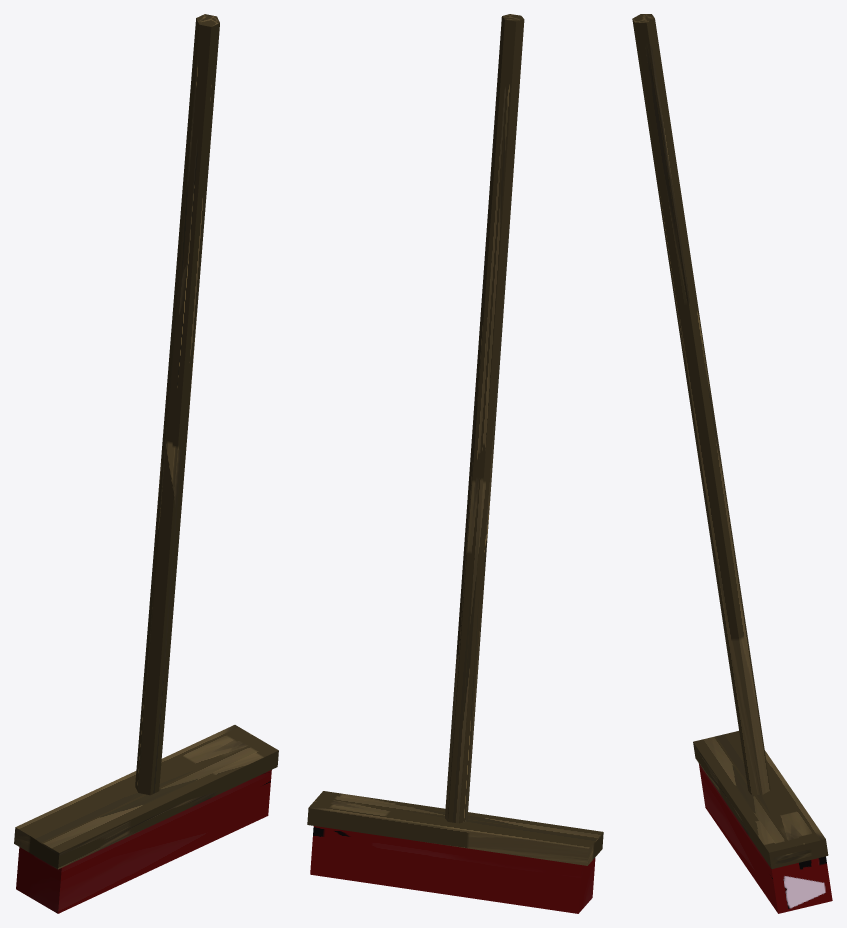
The model's file is Broom.glb.
3 renders of one model, left to right at view 1: azimuth 30°, elevation 25°; view 2: azimuth 150°, elevation 25°; view 3: azimuth 270°, elevation 25°, orthographic. The views are drawn at different scales.
Visible parts, largest first — view 1: Cylinder.168; view 2: Cylinder.168; view 3: Cylinder.168.
Boxes of the visible parts, left/top/right/bottom form: Cylinder.168: left=14, top=14, right=278, bottom=913; Cylinder.168: left=307, top=14, right=603, bottom=913; Cylinder.168: left=632, top=14, right=832, bottom=913.
Bounding box in the file's own units: 0.6397 × 1.99 × 0.427.
2 materials, 2 textured.
